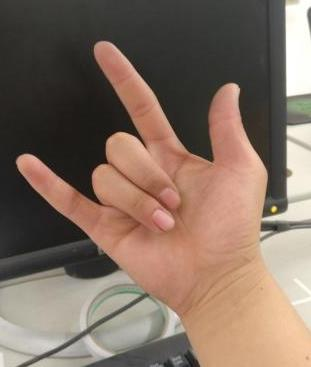back: (11, 32, 274, 275)
